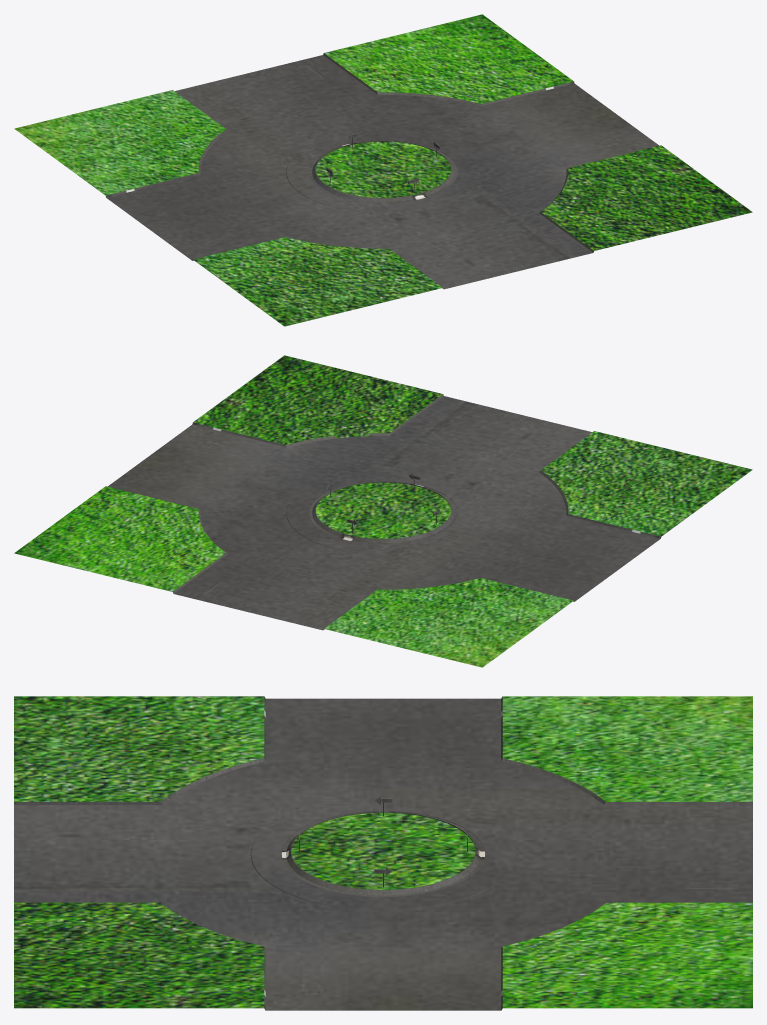
Rendered from roundabout.dae.
3 renders of one model, top to bottom at view 1: azimuth 30°, elevation 25°; view 2: azimuth 150°, elevation 25°; view 3: azimuth 270°, elevation 25°, orthographic. The views are drawn at different scales.
Parts seen in each view (by area): view 1: Circle; view 2: Circle; view 3: Circle.
Part boxes in pixels (box(x1,y1,x2,y2)): Circle: box(14, 14, 752, 326); Circle: box(14, 355, 752, 667); Circle: box(14, 696, 752, 1010).
Bounding box in the file's own units: 40 × 40 × 1.36.
2 materials, 2 textured.
